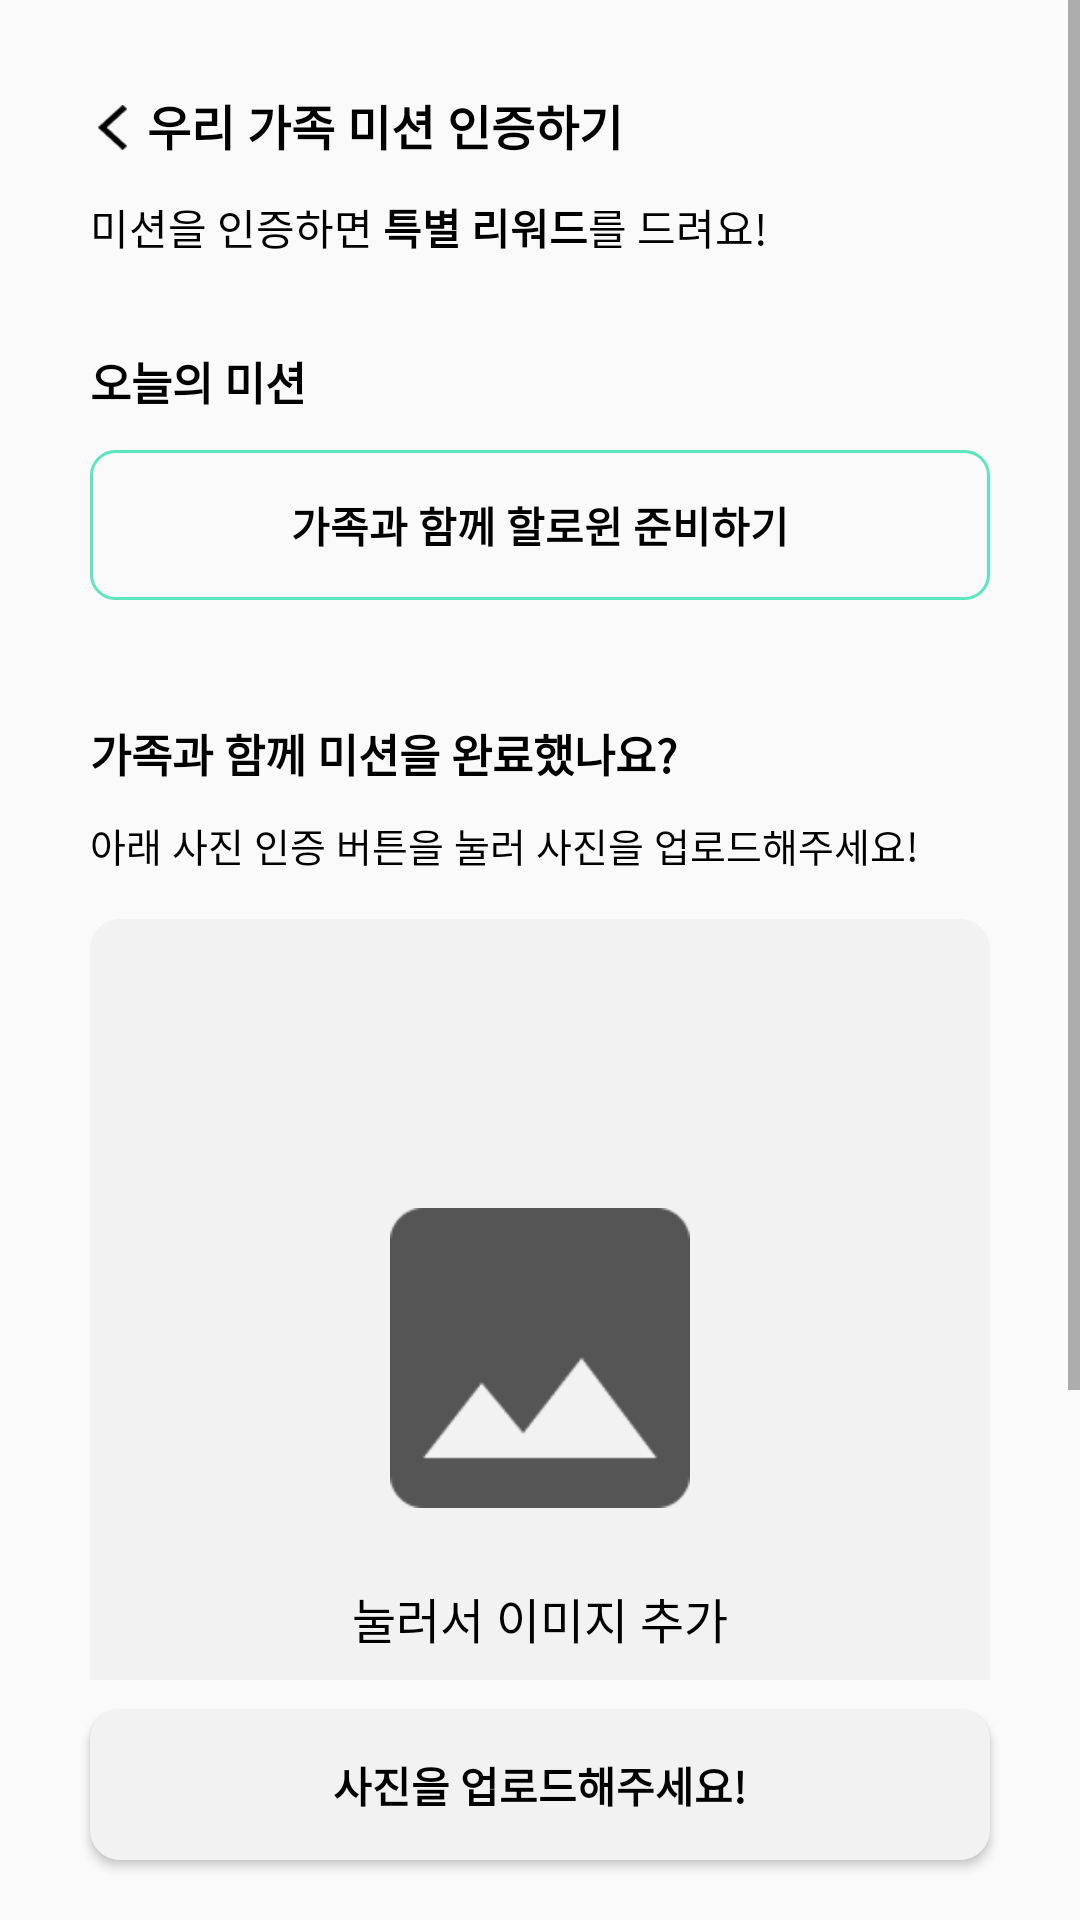

Where to tap for icons on this 1080px×1920px app screen, as (x=x, y=y):
arrow left: (x=112, y=127)
